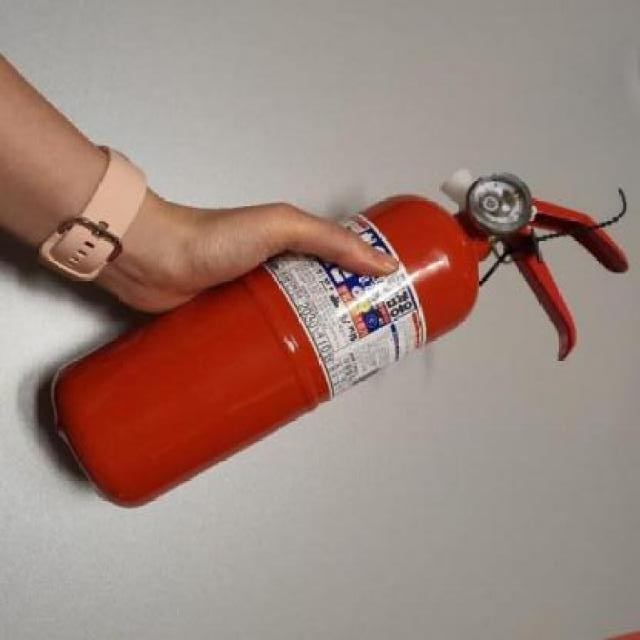fire extinguisher: (50, 167, 628, 510)
